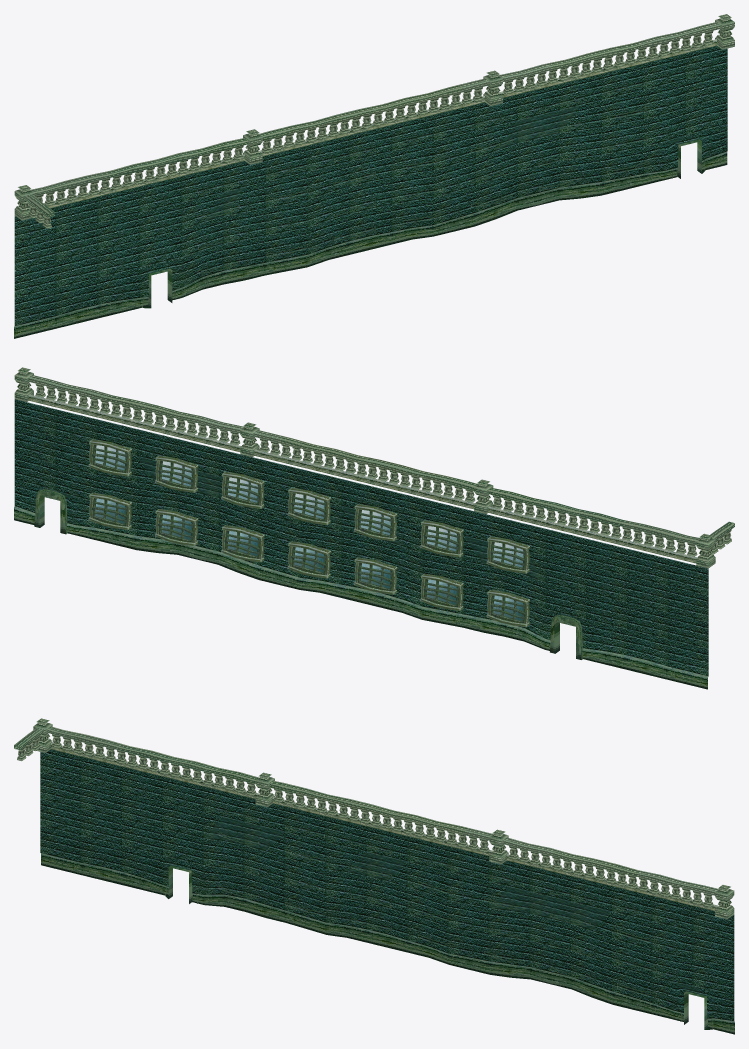
Rendered from room_73.glb.
3 renders of one model, top to bottom at view 1: azimuth 30°, elevation 25°; view 2: azimuth 150°, elevation 25°; view 3: azimuth 330°, elevation 25°, orthographic. The views are drawn at different scales.
Parts seen in each view (by area): view 1: room_73; view 2: room_73; view 3: room_73.
Boxes of the visible parts, x1=… form: room_73: x1=14, y1=14, x2=734, y2=338; room_73: x1=14, y1=367, x2=734, y2=689; room_73: x1=14, y1=718, x2=734, y2=1034.
Size of the model in its own units: 6800 by 1411 by 560.
Materials: 6 (6 with a texture image).
